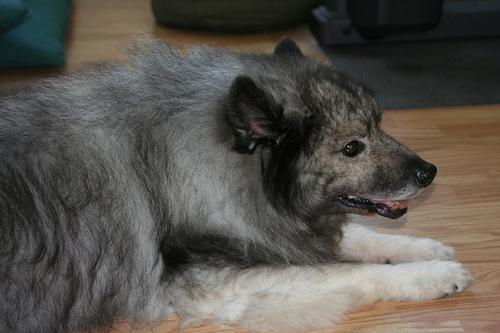dog-keeshond: (223, 35, 436, 218)
